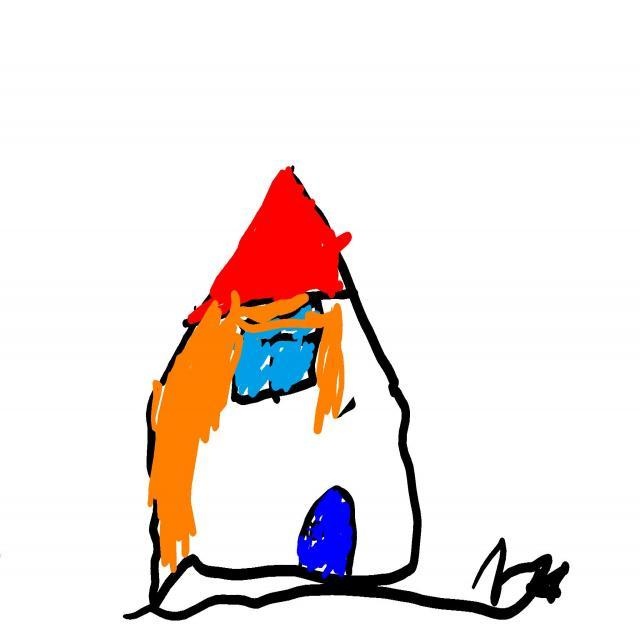door: (298, 487, 357, 580)
house: (136, 162, 422, 622)
roof: (179, 163, 359, 329)
wall: (154, 294, 412, 612)
window: (232, 301, 325, 404)
